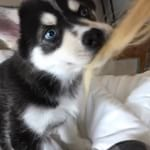puppy: (1, 1, 116, 148)
